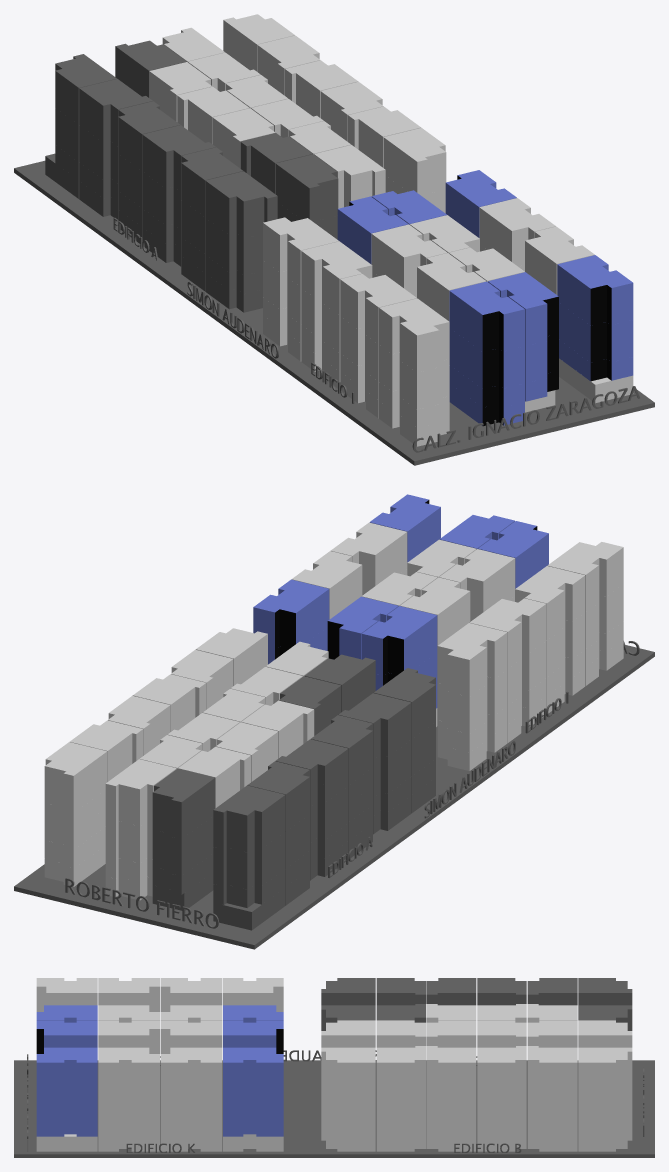
Rendered from zaragoza.dae.
3 renders of one model, top to bottom at view 1: azimuth 30°, elevation 25°; view 2: azimuth 150°, elevation 25°; view 3: azimuth 270°, elevation 25°, orthographic. The views are drawn at different scales.
Visible parts, largest first — view 1: base, IZG_0K_N005_P_K508, IZG_0J_N005_P_J508, IZG_0J_N005_P_J507, IZG_0A_N005_P_A511, IZG_0B_N005_P_B512, IZG_0A_N005_P_A512, IZG_0K_N005_P_K504, IZG_0J_N005_P_J504, IZG_0J_N005_P_J503, IZG_0J_N005_P_J505, IZG_0B_N005_P_B511 (+84 smaller); view 2: base, IZG_0K_N005_P_K502, IZG_0J_N005_P_J502, IZG_0J_N005_P_J501, IZG_0A_N005_P_A501, IZG_0B_N005_P_B502, IZG_0A_N005_P_A502, IZG_0K_N005_P_K506, IZG_0J_N005_P_J506, IZG_0J_N005_P_J505, IZG_0J_N005_P_J503, IZG_0K_N005_P_K501 (+84 smaller); view 3: base, IZG_0K_N005_P_K504, IZG_0K_N005_P_K508, IZG_0K_N005_P_K506, IZG_0K_N005_P_K502, IZG_0K_N005_P_K503, IZG_0J_N005_P_J503, IZG_0K_N005_P_K507, IZG_0K_N005_P_K505, IZG_0J_N005_P_J507, IZG_0J_N005_P_J505, IZG_0K_N005_P_K501 (+81 smaller).
Boxes of the visible parts, x1,y1,x2,y2 form: base: (14, 160, 654, 465); IZG_0K_N005_P_K508: (557, 255, 633, 306); IZG_0J_N005_P_J508: (449, 281, 524, 333); IZG_0J_N005_P_J507: (379, 298, 449, 353); IZG_0A_N005_P_A511: (205, 171, 277, 219); IZG_0B_N005_P_B512: (383, 128, 446, 180); IZG_0A_N005_P_A512: (275, 154, 338, 206); IZG_0K_N005_P_K504: (479, 198, 555, 249); IZG_0J_N005_P_J504: (371, 224, 447, 275); IZG_0J_N005_P_J503: (301, 241, 372, 297); IZG_0J_N005_P_J505: (340, 274, 416, 325); IZG_0B_N005_P_B511: (314, 145, 385, 193); base: (14, 645, 654, 949); IZG_0K_N005_P_K502: (253, 579, 329, 631); IZG_0J_N005_P_J502: (361, 606, 437, 657); IZG_0J_N005_P_J501: (437, 623, 507, 678); IZG_0A_N005_P_A501: (213, 785, 285, 833); IZG_0B_N005_P_B502: (44, 742, 107, 794); IZG_0A_N005_P_A502: (152, 768, 215, 820); IZG_0K_N005_P_K506: (330, 522, 407, 573); IZG_0J_N005_P_J506: (439, 549, 515, 599); IZG_0J_N005_P_J505: (515, 566, 585, 621); IZG_0J_N005_P_J503: (469, 598, 546, 650); IZG_0K_N005_P_K501: (327, 596, 398, 651); base: (14, 1060, 654, 1157); IZG_0K_N005_P_K504: (160, 1047, 222, 1077); IZG_0K_N005_P_K508: (36, 1047, 97, 1077); IZG_0K_N005_P_K506: (98, 1047, 159, 1077); IZG_0K_N005_P_K502: (223, 1047, 283, 1077); IZG_0K_N005_P_K503: (160, 1020, 222, 1047); IZG_0J_N005_P_J503: (160, 978, 222, 1005); IZG_0K_N005_P_K507: (36, 1020, 97, 1047); IZG_0K_N005_P_K505: (98, 1020, 159, 1047); IZG_0J_N005_P_J507: (36, 978, 97, 1005); IZG_0J_N005_P_J505: (98, 978, 159, 1005); IZG_0K_N005_P_K501: (223, 1020, 283, 1047).
Bounding box in the file's own units: 406 × 187 × 1172.
